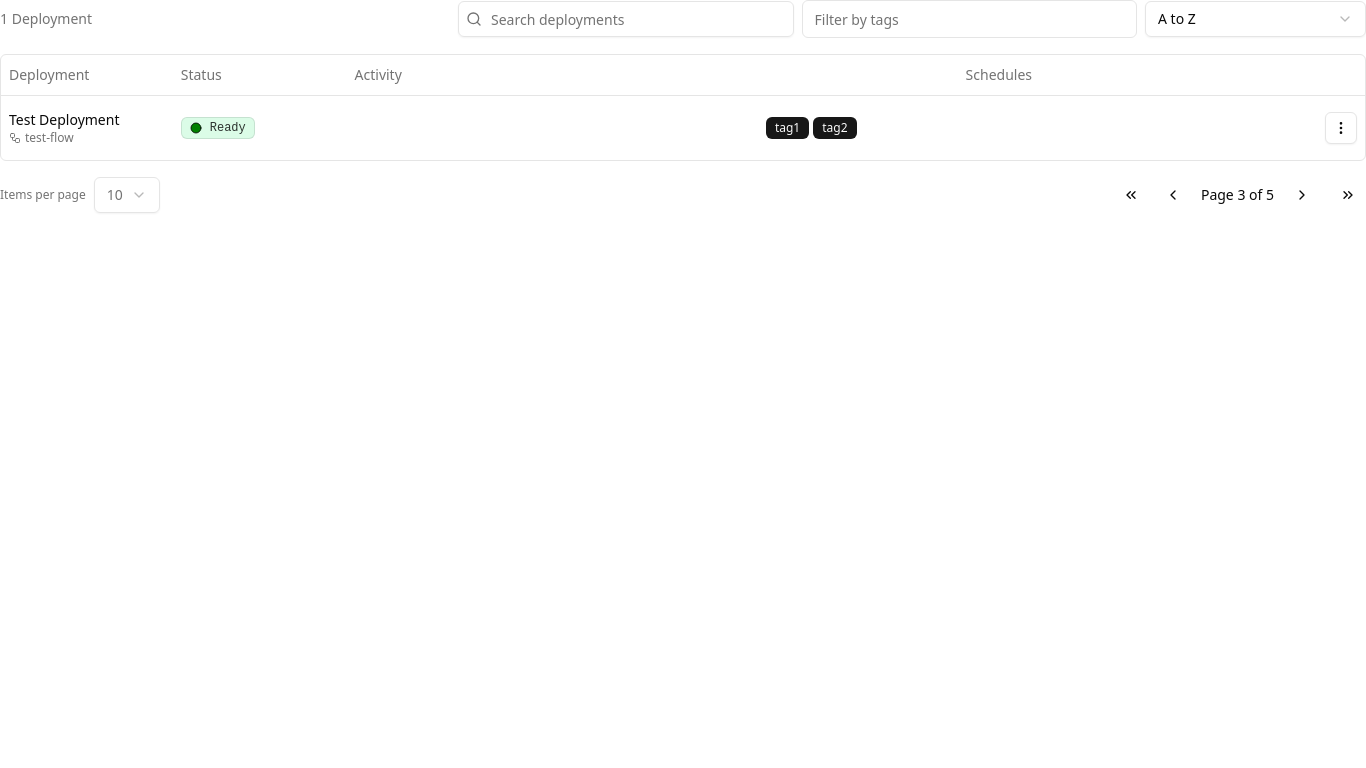
Test: DeploymentsDataTable › handles deletion
Click the button named "Open menu".
click(1341, 128)  # box [1325,112,1357,144]
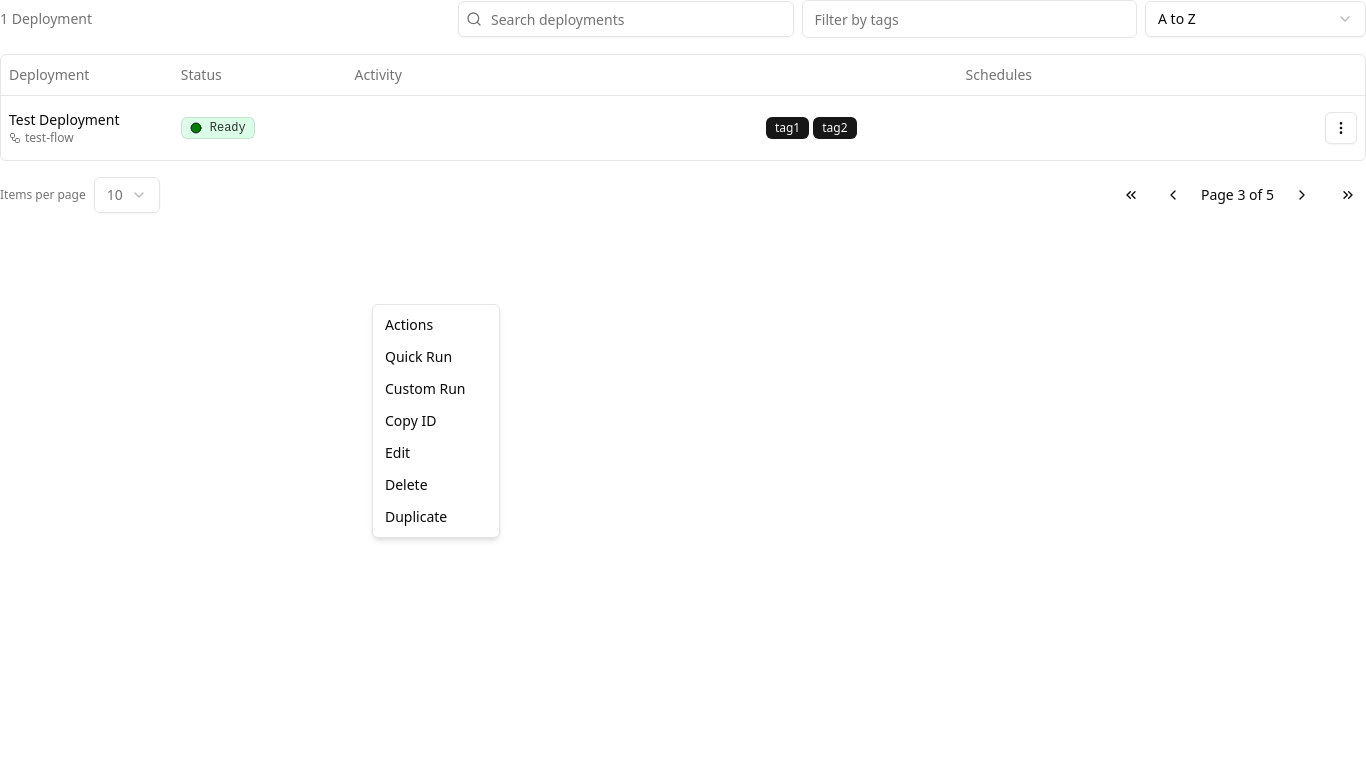
Click the menu item "Delete".
click(406, 484)  # box [385,475,428,494]
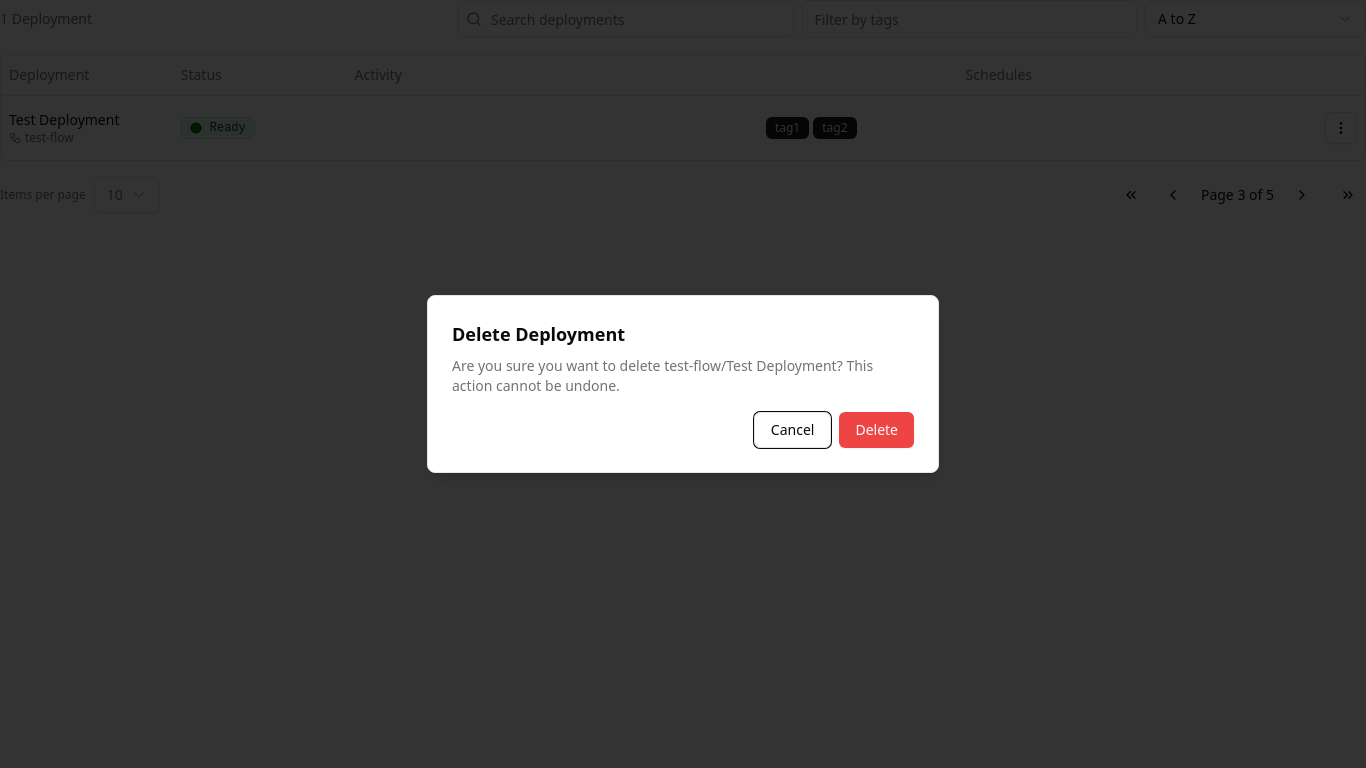
Click the button "Delete".
click(877, 430)  # box [839,412,914,448]
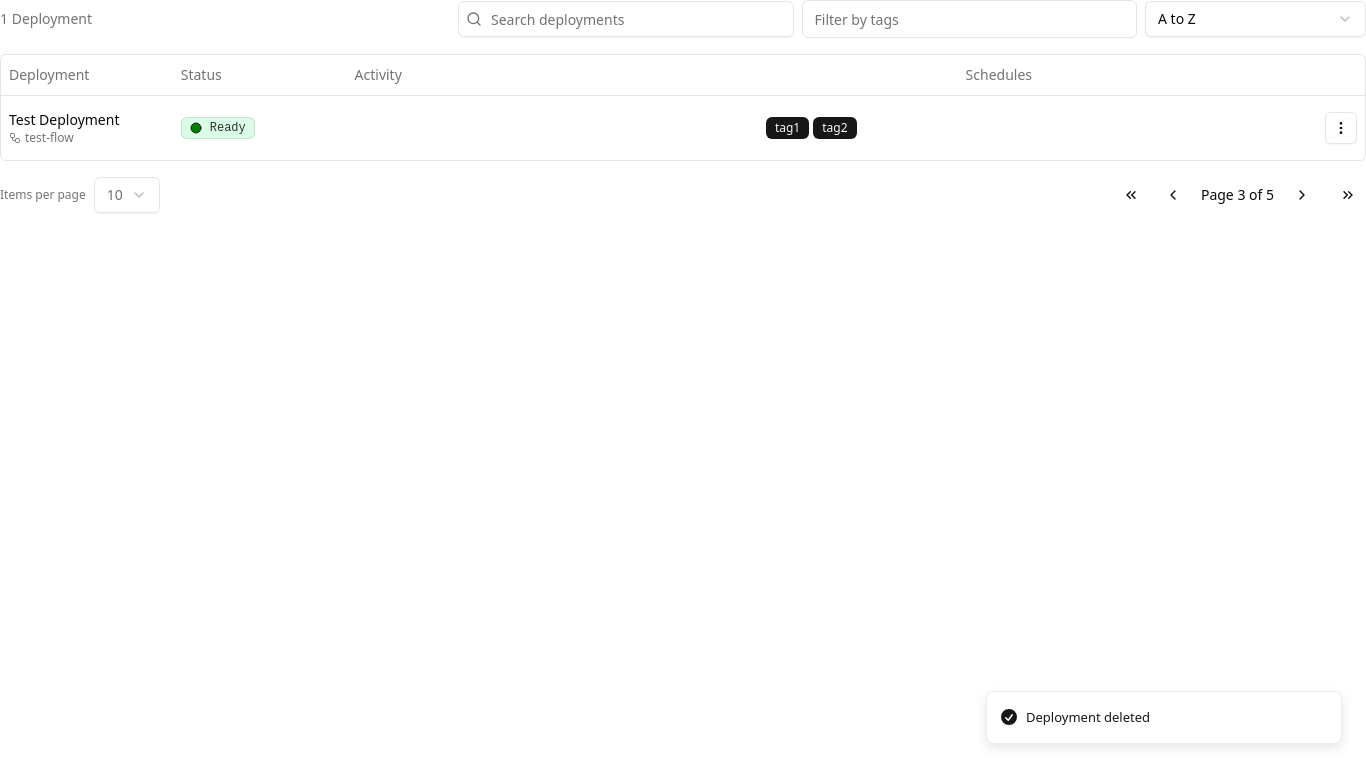
expect the text "Deployment deleted" is shown: met, box [1026,708,1150,727]
